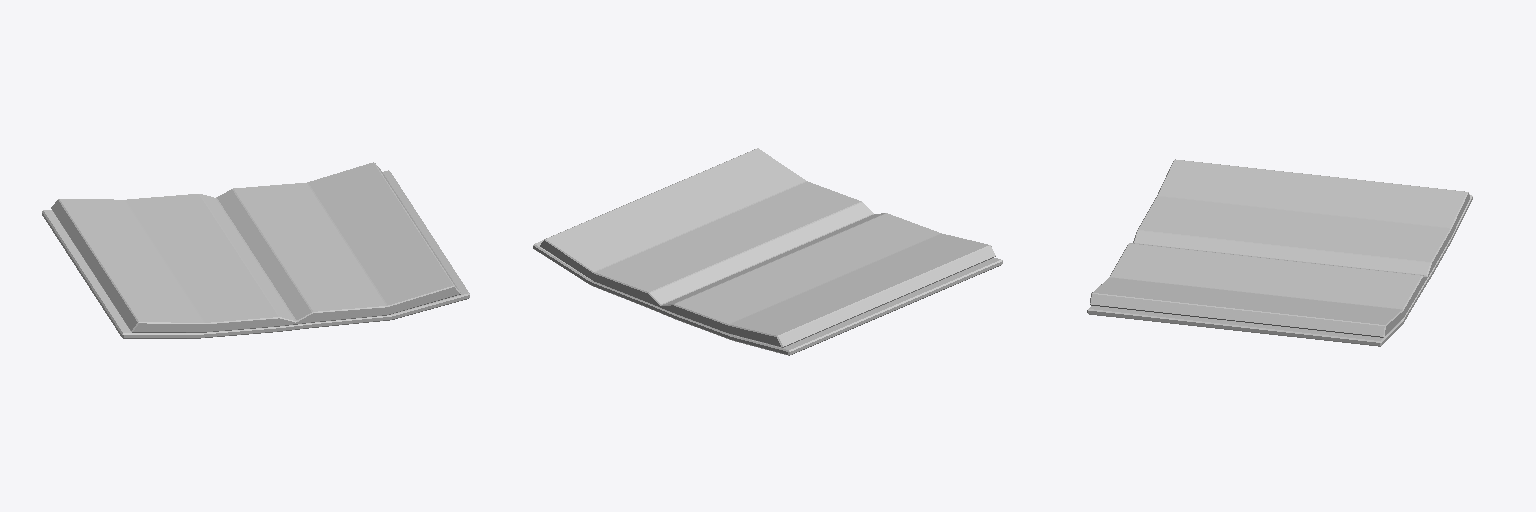
File: Buku kebuka.obj
3 views of the same model, side by side, from view 1: azimuth 30°, elevation 25°; view 2: azimuth 150°, elevation 25°; view 3: azimuth 270°, elevation 25° (orthographic).
Parts seen in each view (by area): view 1: group4 pCube69, pCube68 group4; view 2: group4 pCube69, pCube68 group4; view 3: group4 pCube69, pCube68 group4.
Boxes of the visible parts, x1,y1,x2,y2 form: group4 pCube69: [51, 162, 460, 332]; pCube68 group4: [42, 170, 469, 338]; group4 pCube69: [540, 148, 995, 347]; pCube68 group4: [533, 240, 1002, 355]; group4 pCube69: [1090, 159, 1469, 337]; pCube68 group4: [1087, 194, 1472, 346].
Size of the model in its own units: 1.18 by 0.0847 by 1.07.